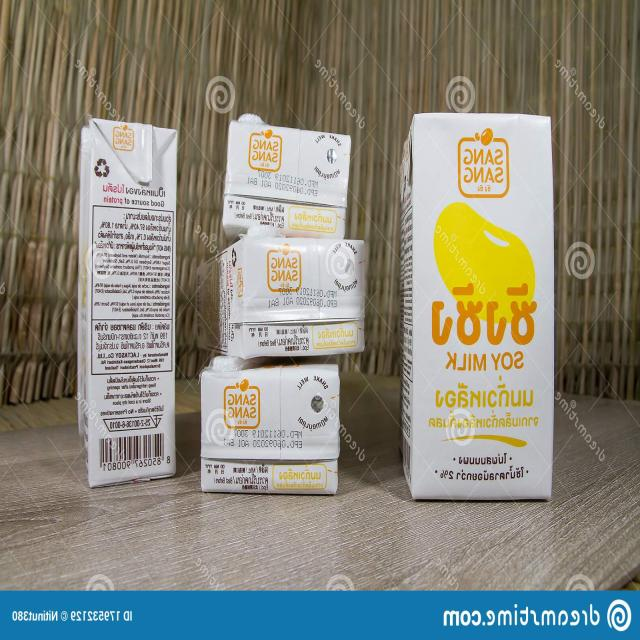cardboard: (395, 107, 556, 506), (67, 111, 185, 487), (197, 350, 345, 496), (194, 234, 366, 356), (220, 106, 352, 238)
